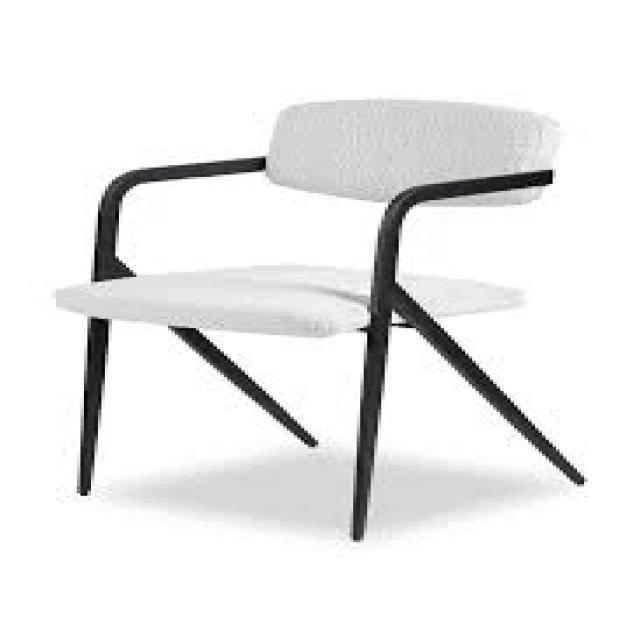chair: (45, 93, 587, 546), (51, 98, 560, 328)
